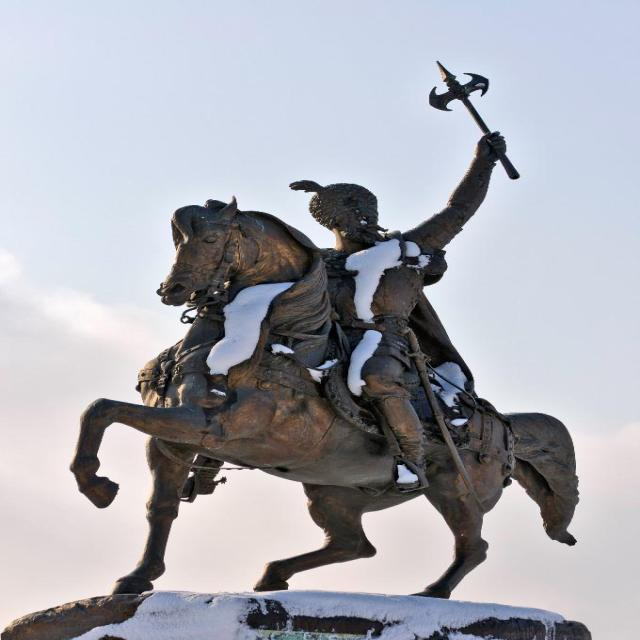Axe: (429, 61, 489, 133), (499, 154, 519, 178)
Knife: (409, 329, 485, 509)
